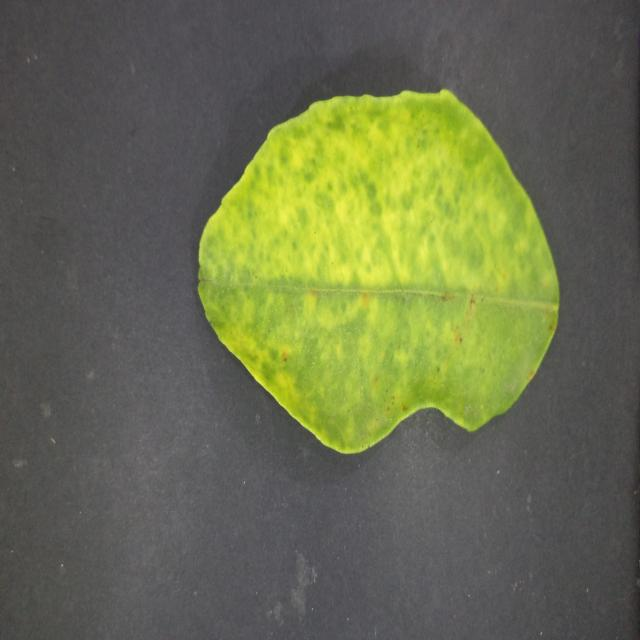greening: (198, 89, 559, 453)
